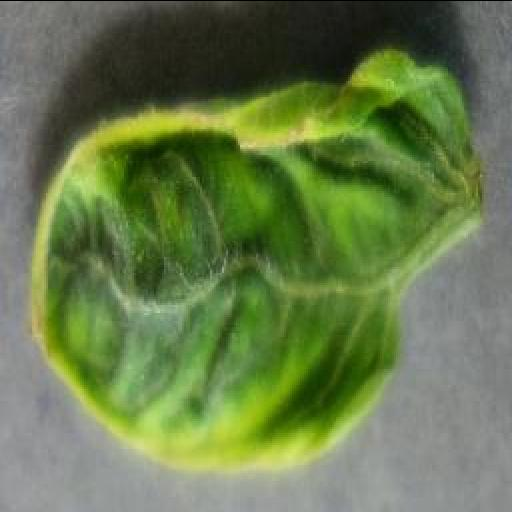disease_tomato: (26, 49, 476, 477)
